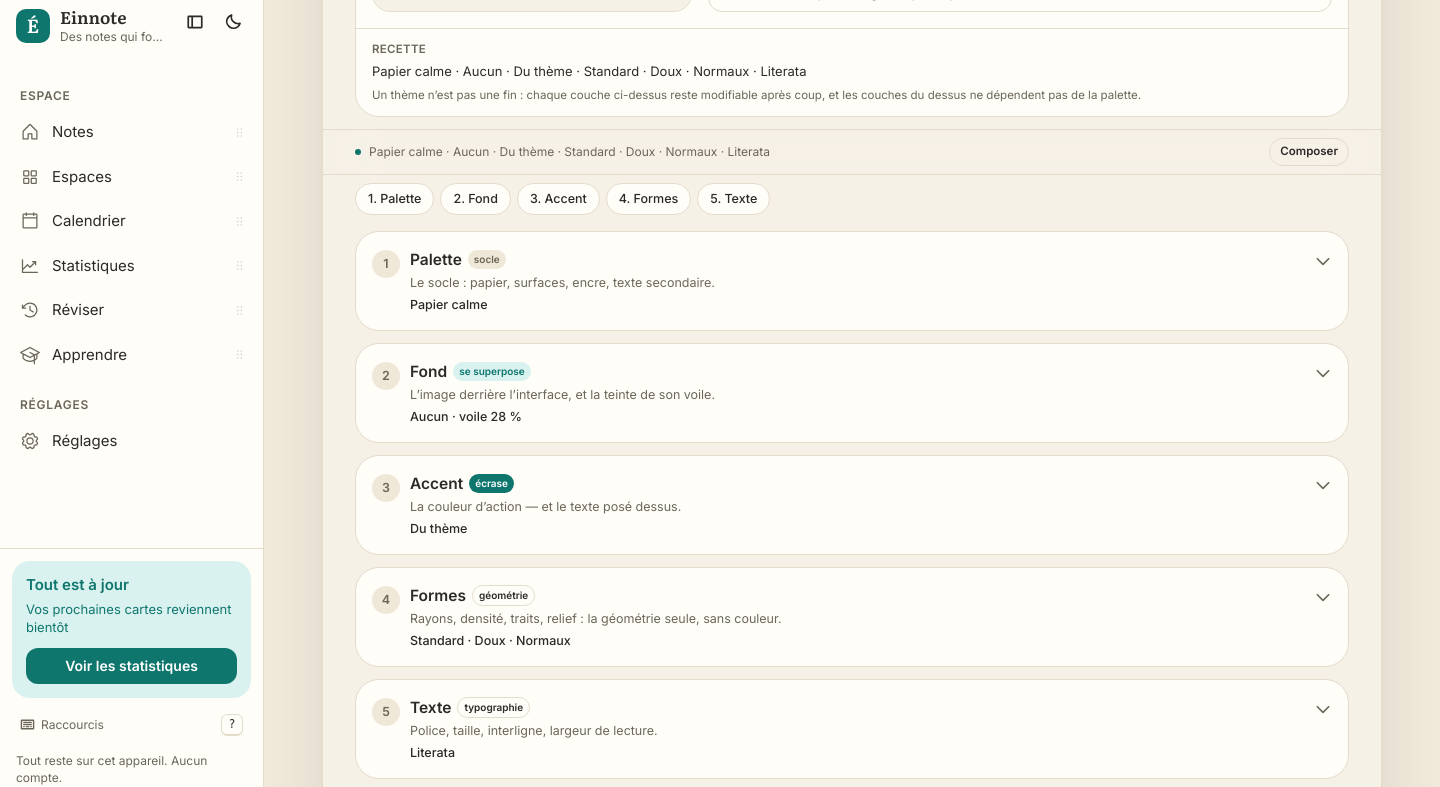
Test: l’écran s’ouvre sur l’aperçu › garde la composition lisible quand une couche est ouverte
(page scrolled)
Expected: the navigation bar named "Couches de l’apparence" is shown, x1=355 y1=182 x2=770 y2=215
Click the button with aria-label "Déplier Fond" at (429, 372), box x1=372 y1=348 x2=1332 y2=438
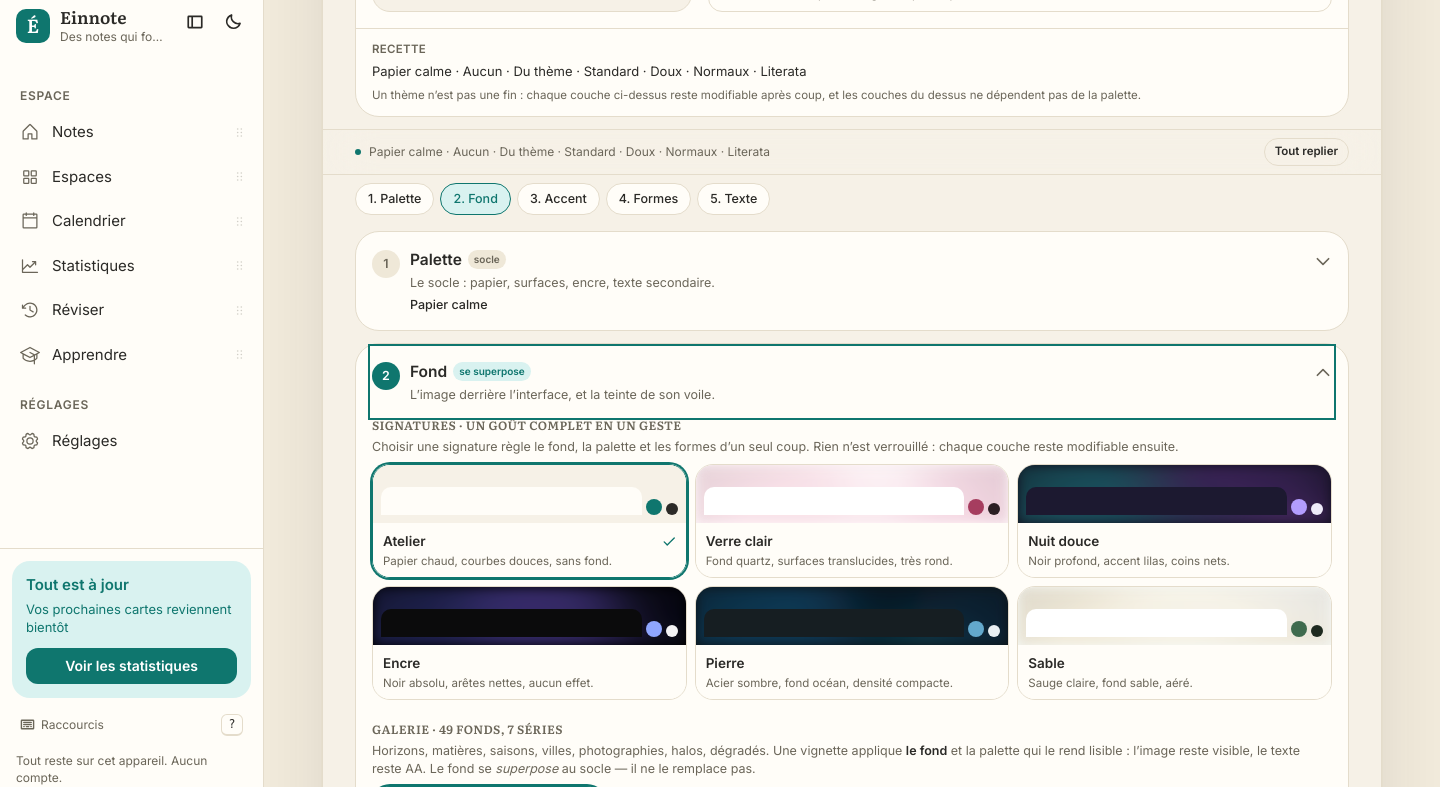
Expected: the button "Tout replier" is shown, x1=1264 y1=138 x2=1349 y2=166
